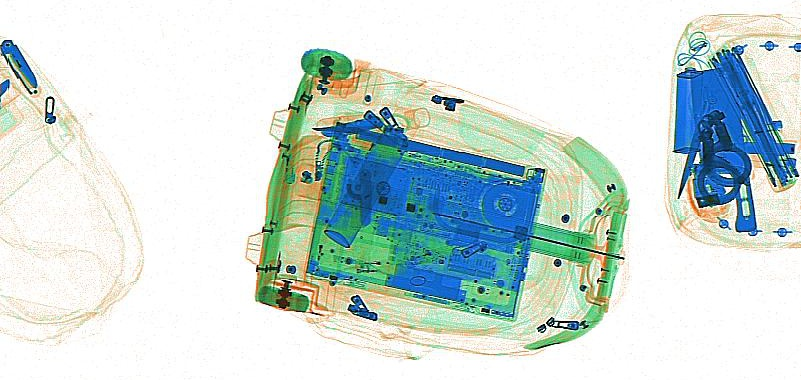handcuffs: (687, 108, 752, 207)
knife: (689, 64, 757, 232), (1, 38, 42, 97), (312, 111, 383, 139), (734, 139, 796, 156), (357, 167, 373, 227)
lighter: (402, 241, 459, 268), (742, 149, 797, 171), (355, 258, 395, 274)
pressure: (323, 104, 420, 249)
scissors: (675, 83, 730, 199)
zippooil: (671, 64, 704, 154)
